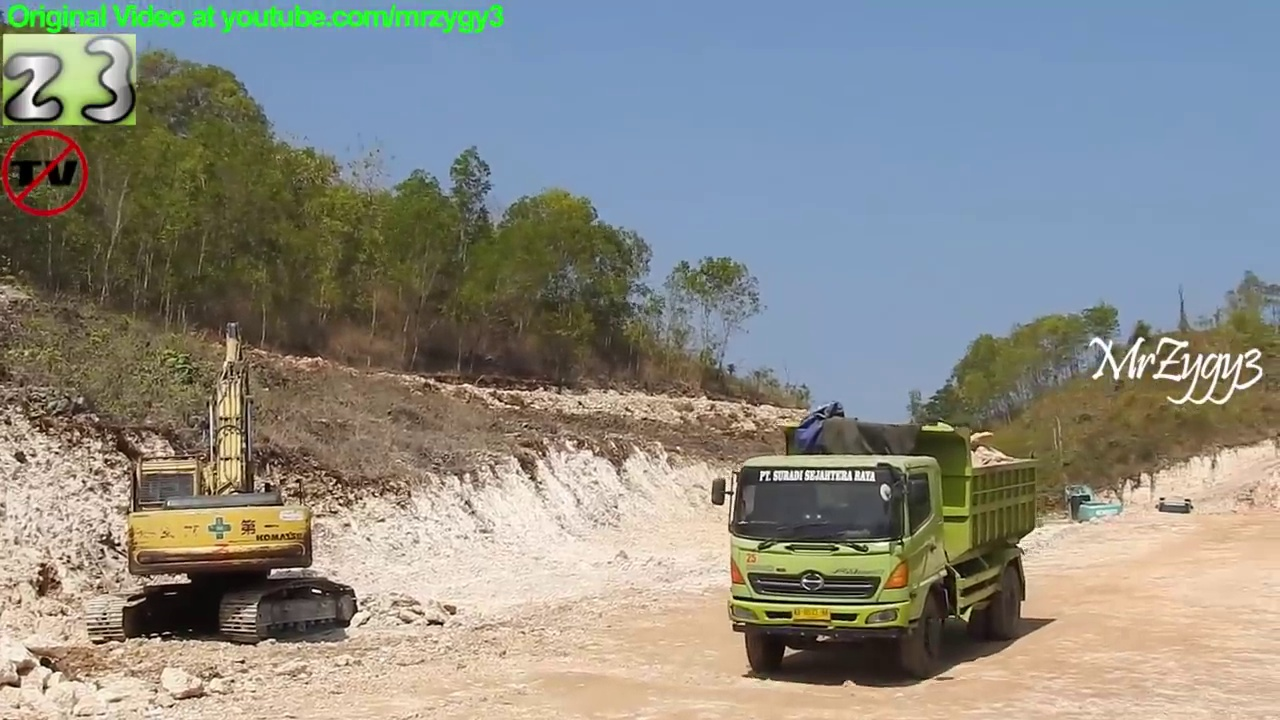excavator: (1060, 478, 1129, 537)
excavator breaker: (78, 314, 365, 651)
truck: (707, 409, 1047, 683), (1154, 490, 1198, 537)
